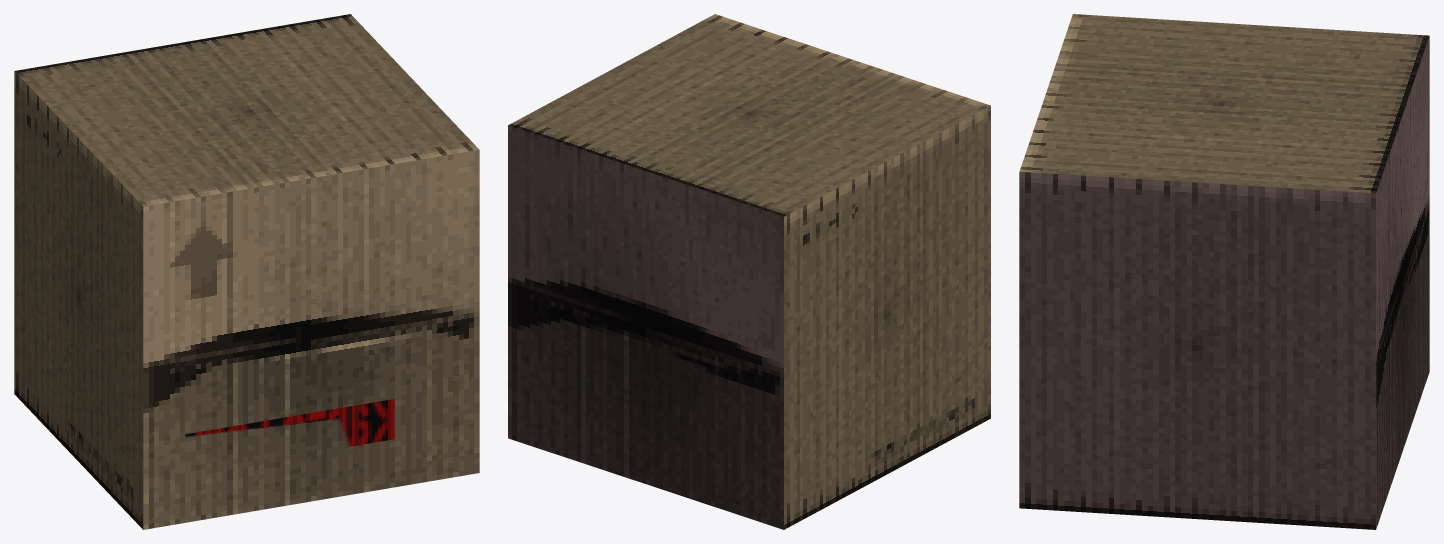
File: primary_075.glb
3 views of the same model, side by side, from view 1: azimuth 30°, elevation 25°; view 2: azimuth 150°, elevation 25°; view 3: azimuth 270°, elevation 25° (orthographic). The views are drawn at different scales.
Parts seen in each view (by area): view 1: Object; view 2: Object; view 3: Object.
Part boxes in pixels (box(x1,y1,x2,y2)): Object: box(14, 14, 479, 529); Object: box(508, 14, 990, 529); Object: box(1019, 14, 1429, 529).
Bounding box in the file's own units: 1.25 × 1.09 × 1.21.
7 materials, 7 textured.
